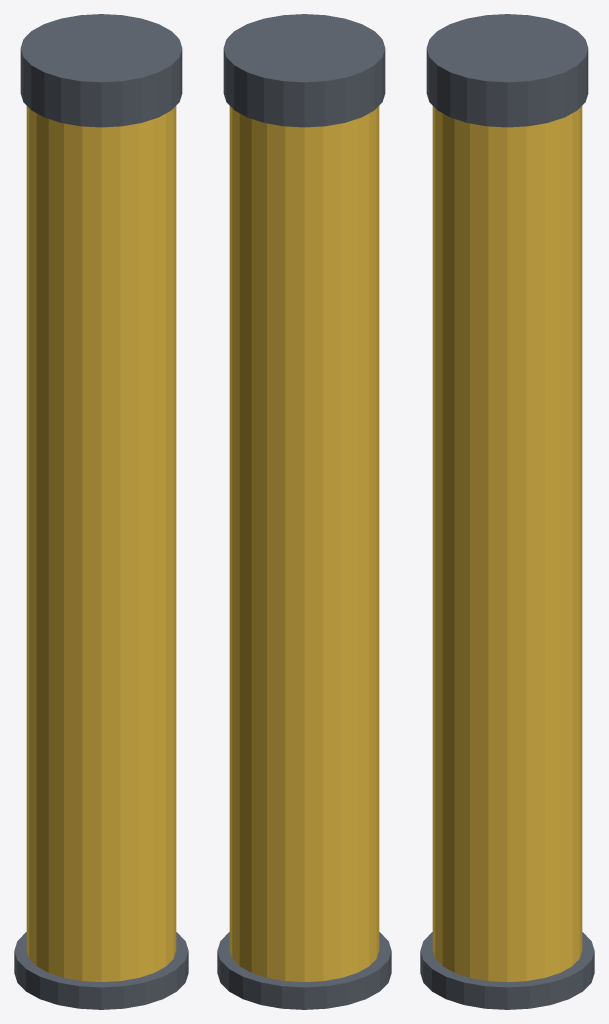
Rendered from obstacle_pillar.glb.
3 renders of one model, left to right at view 1: azimuth 30°, elevation 25°; view 2: azimuth 150°, elevation 25°; view 3: azimuth 270°, elevation 25°, orthographic.
Visible parts, largest first — view 1: slalom_pillar_body, slalom_pillar_cap_top, slalom_pillar_cap_bottom; view 2: slalom_pillar_body, slalom_pillar_cap_top, slalom_pillar_cap_bottom; view 3: slalom_pillar_body, slalom_pillar_cap_top, slalom_pillar_cap_bottom.
Boxes of the visible parts, x1,y1,x2,y2 form: slalom_pillar_body: [26, 106, 176, 981]; slalom_pillar_cap_top: [20, 14, 182, 127]; slalom_pillar_cap_bottom: [14, 932, 188, 1009]; slalom_pillar_body: [229, 106, 379, 981]; slalom_pillar_cap_top: [223, 14, 385, 127]; slalom_pillar_cap_bottom: [217, 932, 391, 1009]; slalom_pillar_body: [432, 106, 582, 981]; slalom_pillar_cap_top: [426, 14, 588, 127]; slalom_pillar_cap_bottom: [420, 932, 594, 1009].
Bounding box in the file's own units: 0.14 × 0.82 × 0.14.
